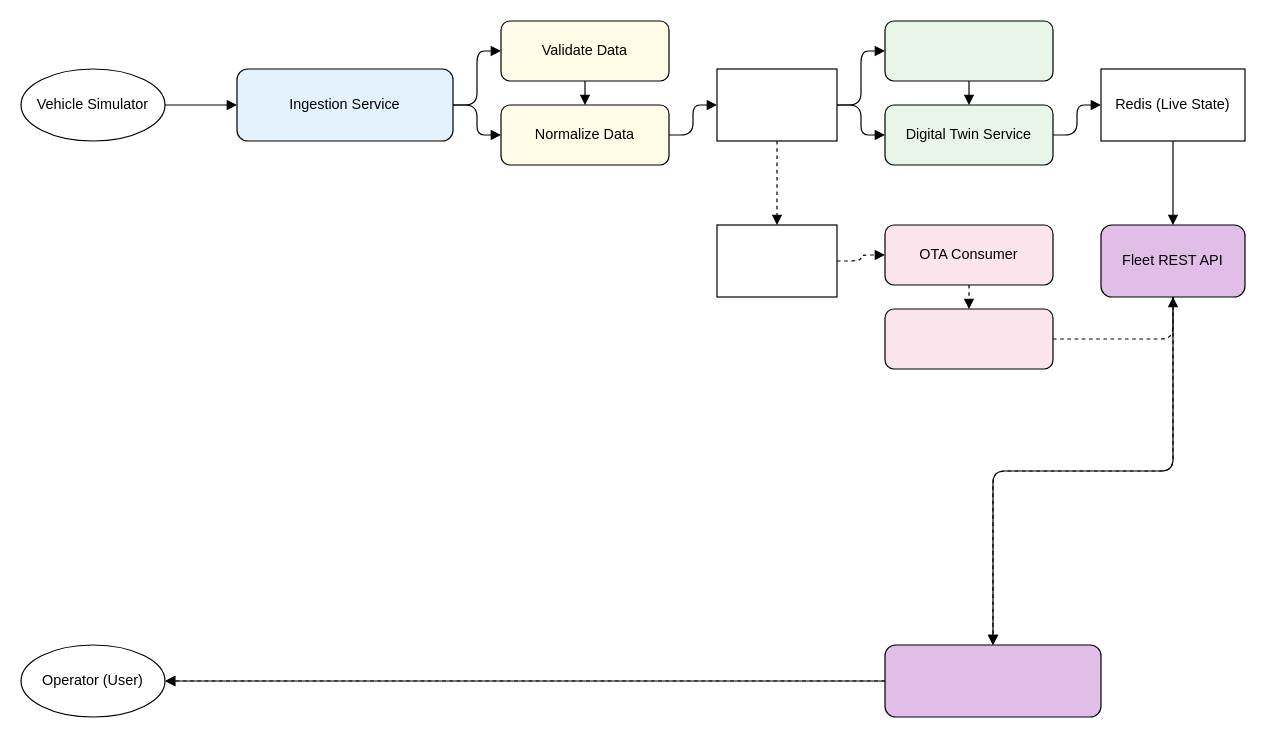
This 1266x738 diagram has some shape labels left out. The shapes that lost their labels are listed below. From the top down, each one's centre as x and y in pixels, then its label:
(968,50): Telemetry Consumer
(776,104): Kafka (telemetry.normal)
(776,260): OTA Event Topic
(968,338): OTA Orchestration
(992,680): Analytics Dashboard
